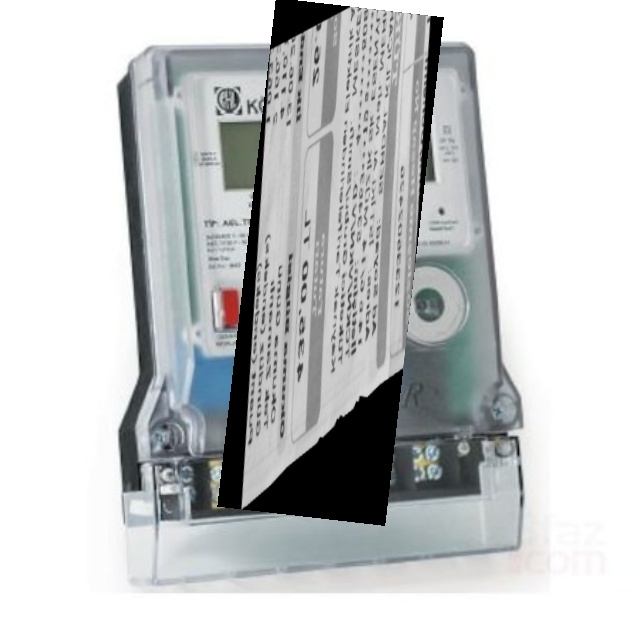electricity-bill: (217, 0, 443, 525)
